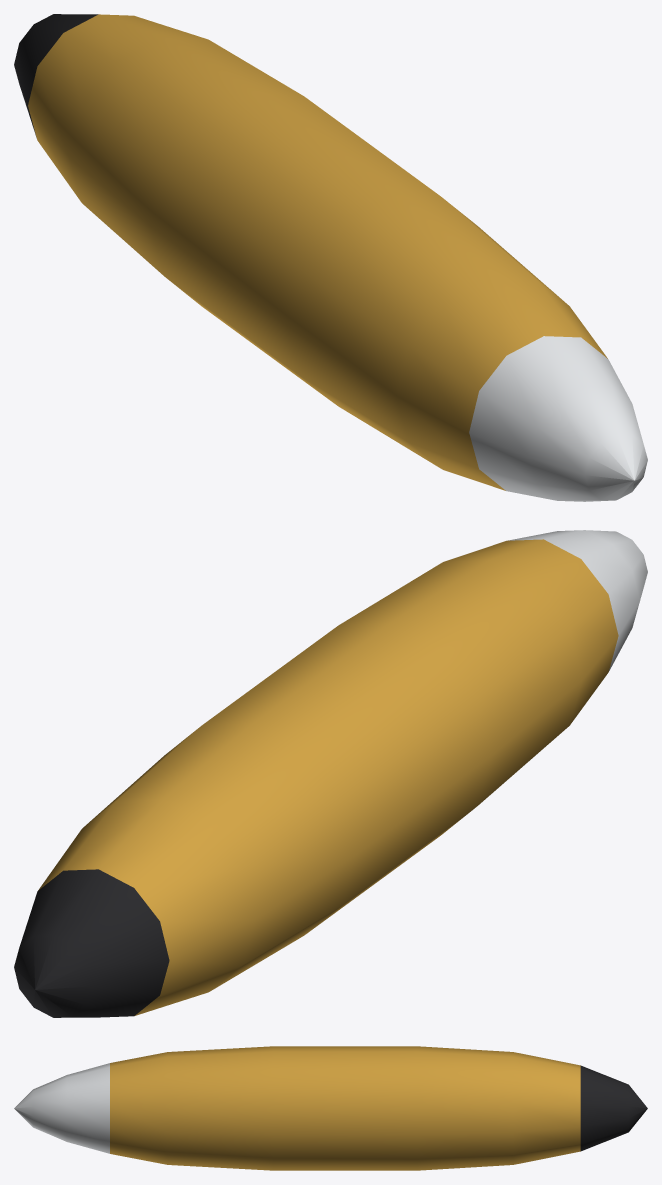
The model's file is rd1_body.obj.
3 renders of one model, top to bottom at view 1: azimuth 30°, elevation 25°; view 2: azimuth 150°, elevation 25°; view 3: azimuth 270°, elevation 25°, orthographic. The views are drawn at different scales.
Visible parts, largest first — view 1: rd1_body; view 2: rd1_body; view 3: rd1_body.
Boxes of the visible parts, bbox=[...] form: rd1_body: bbox=[14, 14, 647, 501]; rd1_body: bbox=[14, 530, 647, 1017]; rd1_body: bbox=[14, 1046, 647, 1170].
Bounding box in the file's own units: 0.26 × 0.26 × 1.32.
